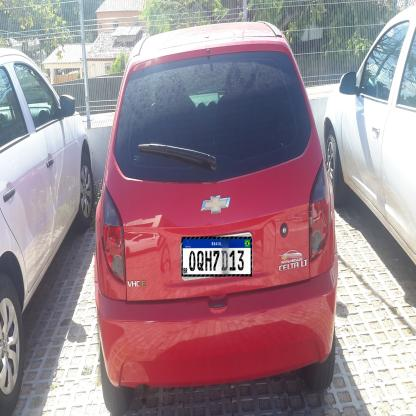PlacaM: (181, 236, 252, 276)
